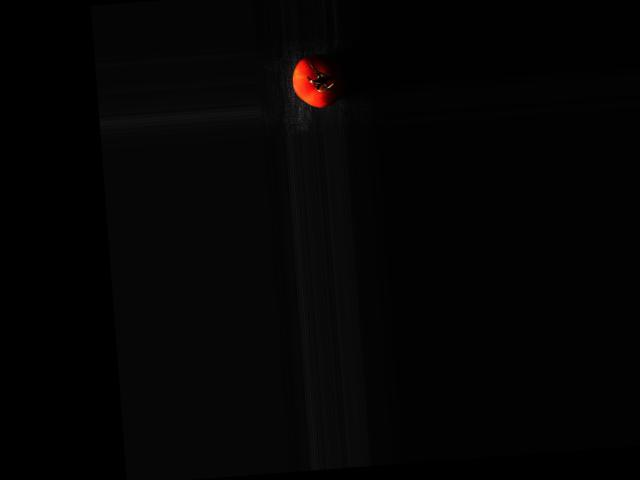tomato: (290, 53, 347, 109)
